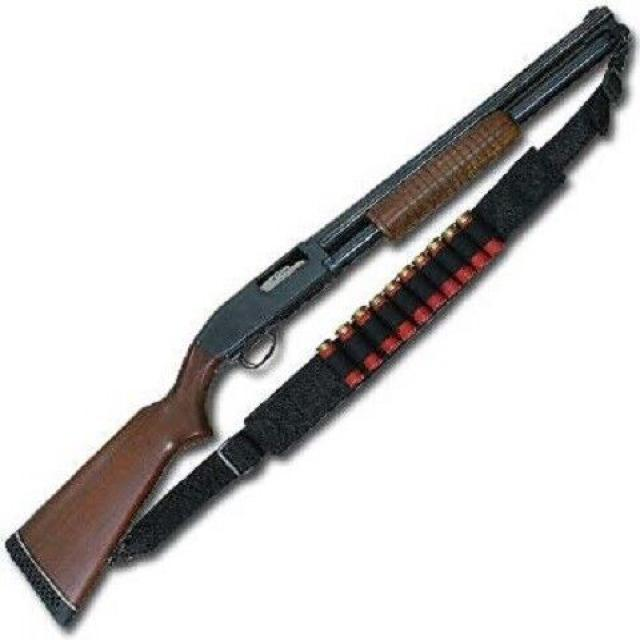ShotGun: (7, 8, 632, 632)
